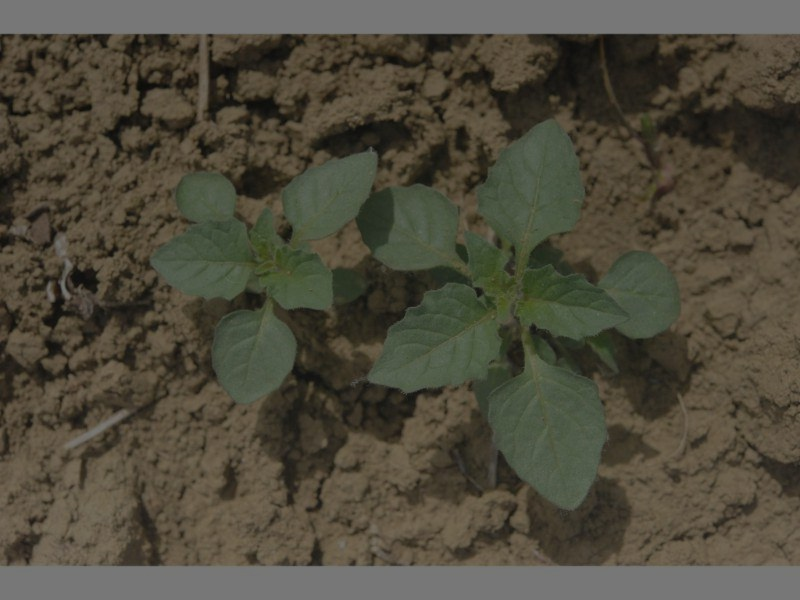nightshade: (359, 117, 681, 507), (151, 148, 377, 403)
